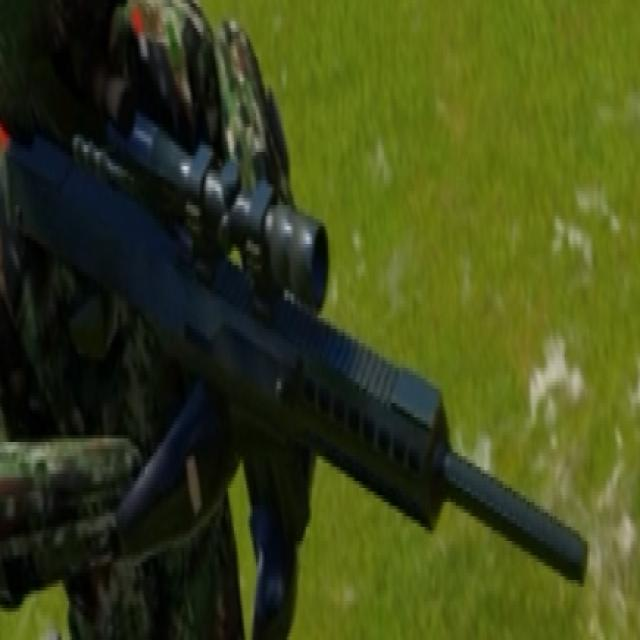RifleTel: (2, 83, 606, 627)
